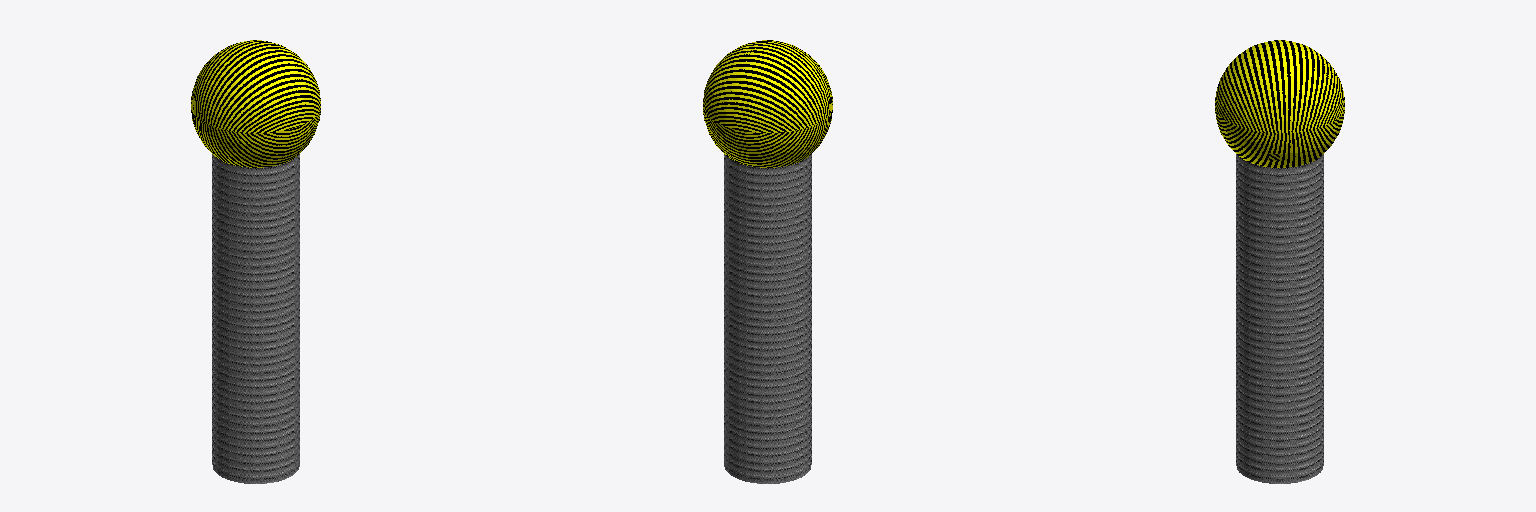
3 renders of one model, left to right at view 1: azimuth 30°, elevation 25°; view 2: azimuth 150°, elevation 25°; view 3: azimuth 270°, elevation 25°, orthographic.
Parts seen in each view (by area): view 1: Cylinder_Cylinder.001; view 2: Cylinder_Cylinder.001; view 3: Cylinder_Cylinder.001.
Part boxes in pixels (x1,y1,x2,y2): Cylinder_Cylinder.001: (191,40,320,483); Cylinder_Cylinder.001: (703,40,832,483); Cylinder_Cylinder.001: (1215,40,1344,483).
Bounding box in the file's own units: 1.5 × 5.3 × 1.5.
Materials: 2 (2 with a texture image).